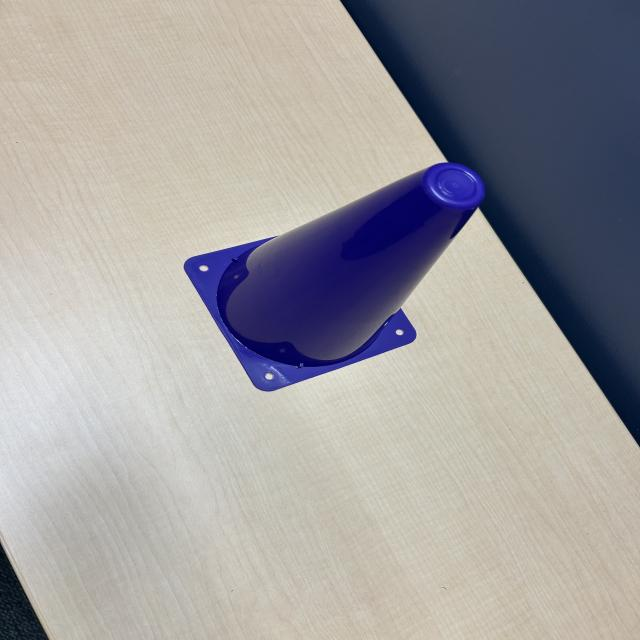purple cone: (181, 156, 490, 394)
